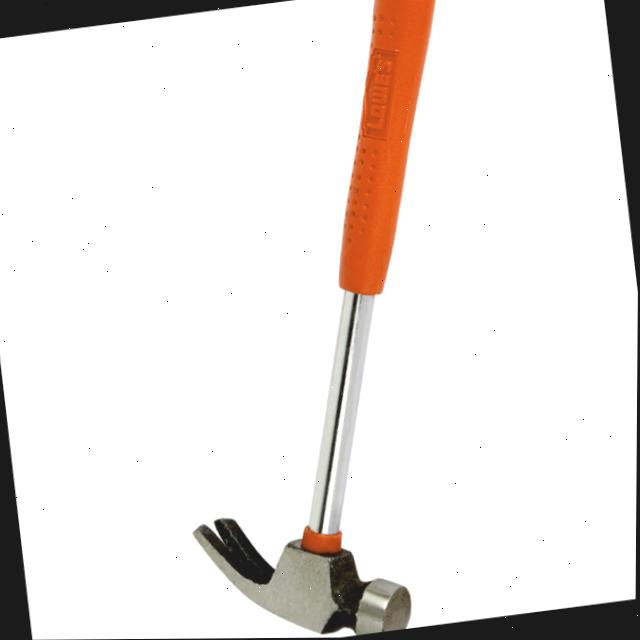hammer: (118, 0, 520, 639)
